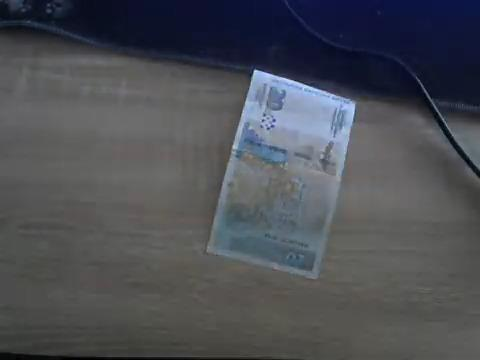20leva: (205, 71, 357, 280)
